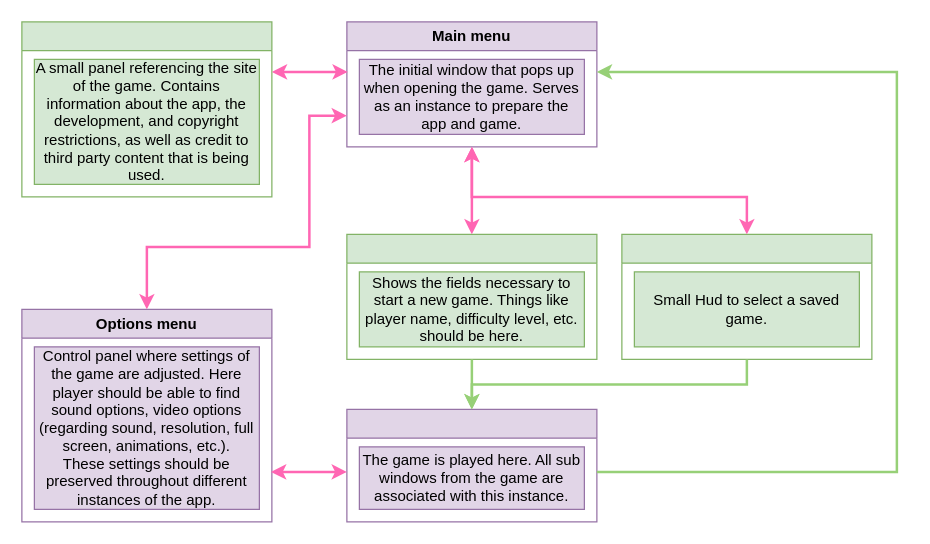
Some shapes in this 930 by 544 pixel diagram are drawn without their labels. Each missing label, with the box of its shape:
About panel: (21, 21, 272, 197)
Game window: (346, 408, 597, 522)
Load game panel: (621, 233, 872, 359)
New game panel: (346, 233, 597, 359)
